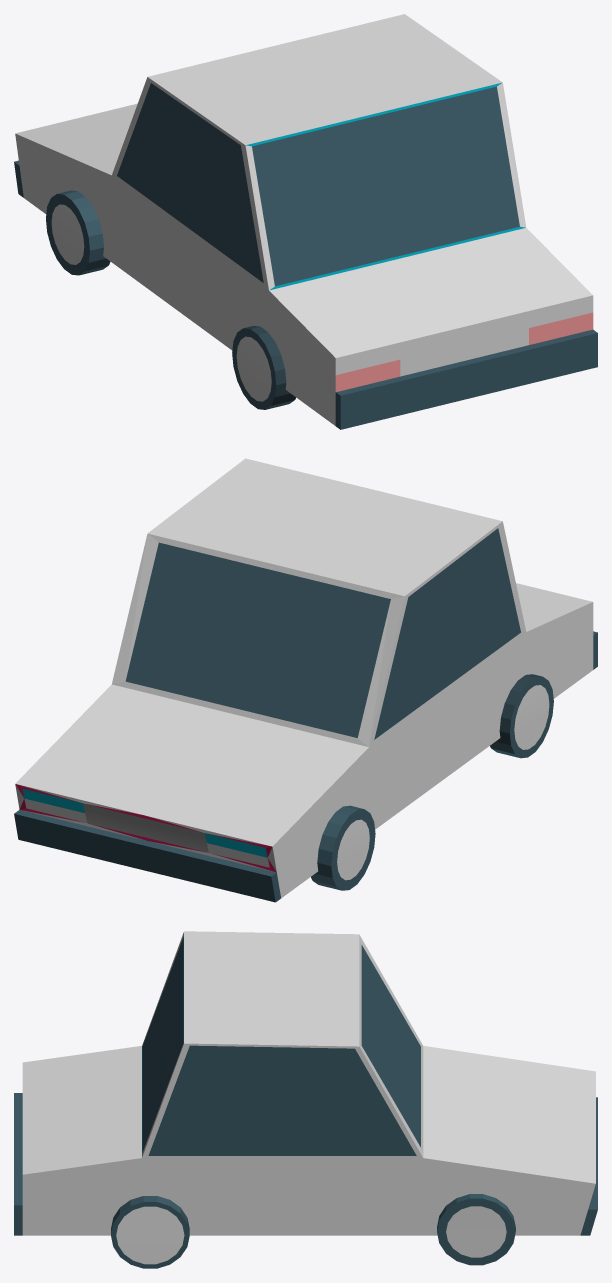
Rendered from Car1White1x1.fbx.
3 views of the same model, one above another, from view 1: azimuth 30°, elevation 25°; view 2: azimuth 150°, elevation 25°; view 3: azimuth 270°, elevation 25° (orthographic). The views are drawn at different scales.
Parts seen in each view (by area): view 1: Car_04_4; view 2: Car_04_4; view 3: Car_04_4.
Boxes of the visible parts, x1=… form: Car_04_4: x1=14, y1=14, x2=597, y2=429; Car_04_4: x1=14, y1=458, x2=597, y2=902; Car_04_4: x1=14, y1=931, x2=597, y2=1268.
Bounding box in the file's own units: 0.4944 × 0.4046 × 0.9785.
Materials: 1 (1 with a texture image).
